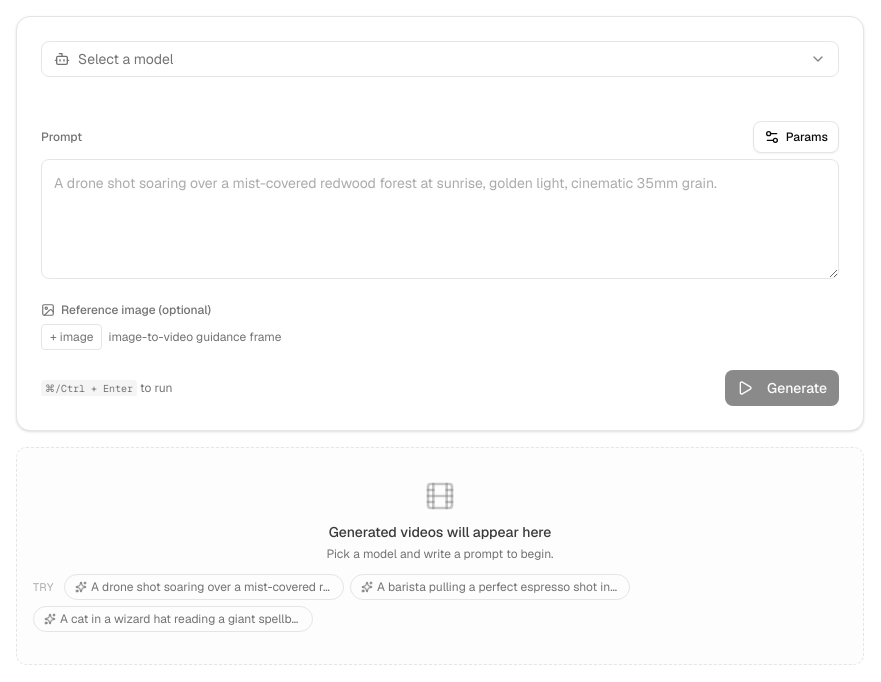
Test: VideoPlayground — empty state › clicking a prompt chip fills the prompt textarea
This screenshot has width=881, height=682.
Click the button "A barista pulling a perfect espresso shot in slow motion, 4K macro": {"x": 490, "y": 587} [350, 574, 630, 600]
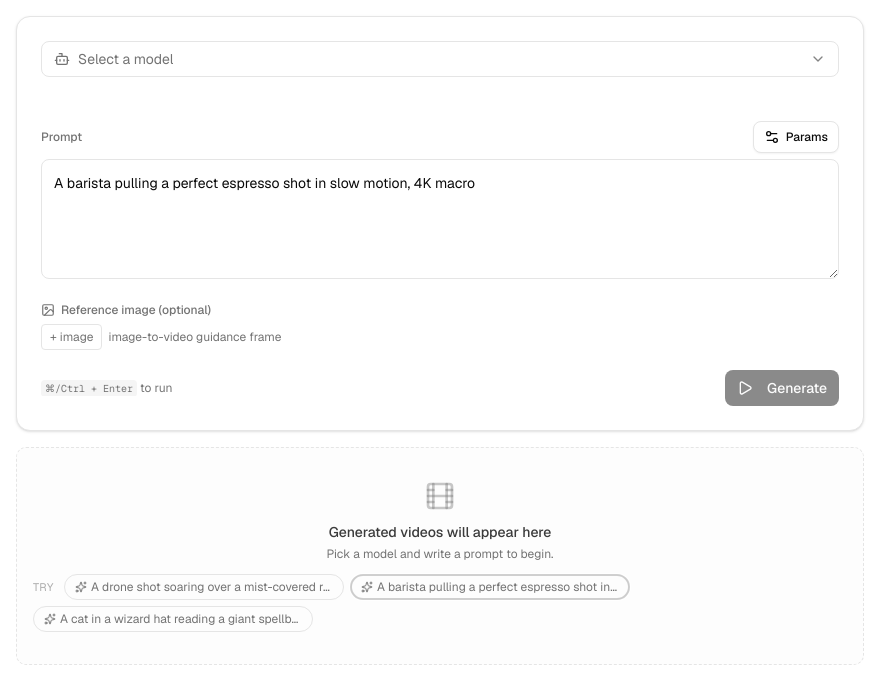
Result: the text box showing "A barista pulling a perfect espresso shot in slow motion, 4K macro" is shown at [41, 159, 839, 279]
